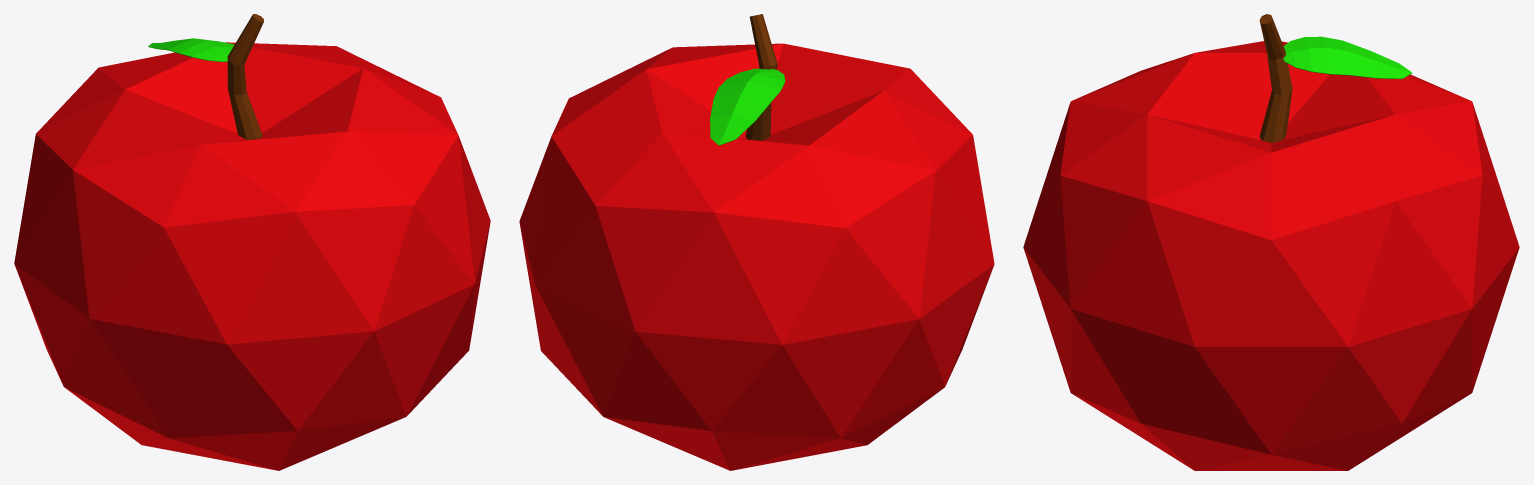
Rendered from apple.fbx.
3 renders of one model, left to right at view 1: azimuth 30°, elevation 25°; view 2: azimuth 150°, elevation 25°; view 3: azimuth 270°, elevation 25°, orthographic. The views are drawn at different scales.
Parts seen in each view (by area): view 1: Apple; view 2: Apple; view 3: Apple.
Boxes of the visible parts, x1,y1,x2,y2 form: Apple: (14, 14, 490, 470); Apple: (519, 14, 994, 470); Apple: (1023, 14, 1519, 470).
Bounding box in the file's own units: 98 × 96.73 × 103.
